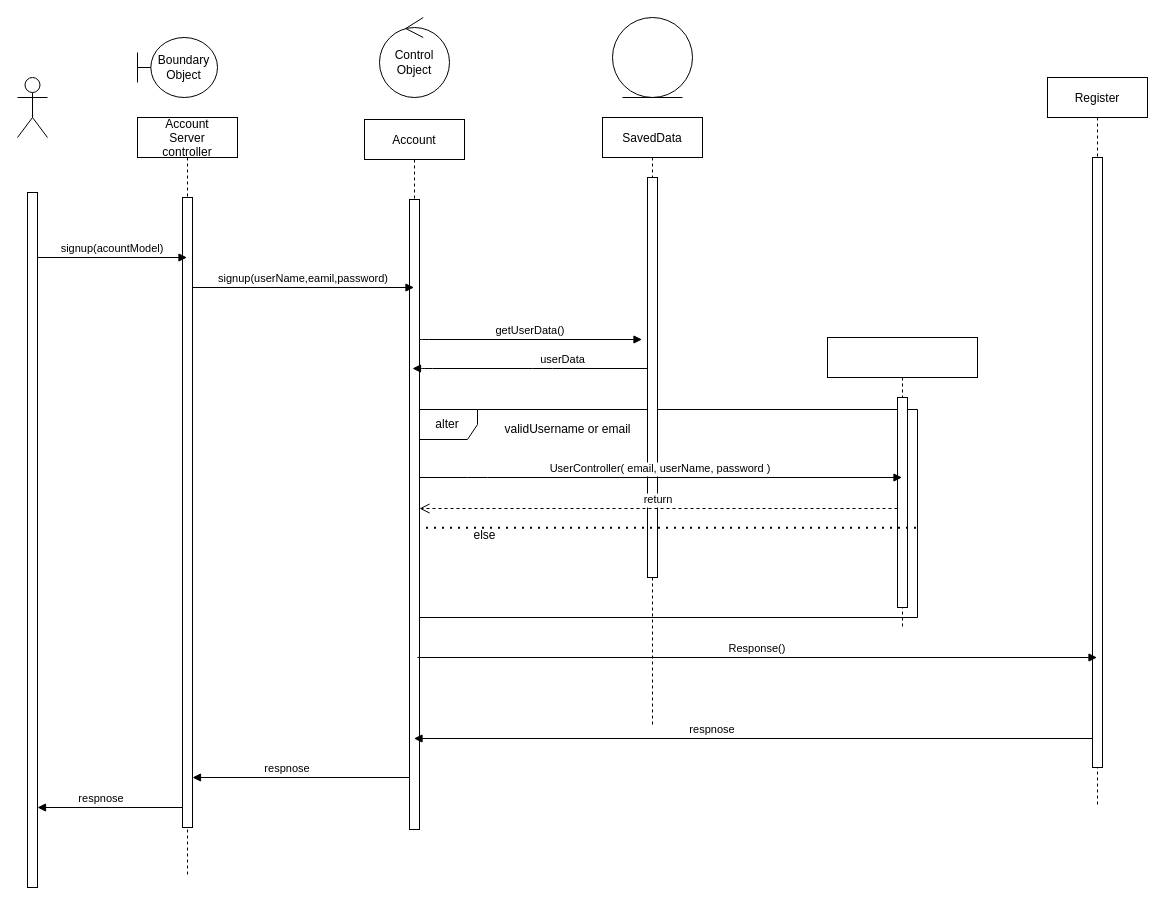
Some shapes in this 1165 by 905 pixel diagram are drawn without their labels. The box of each missing label's shape, as (x1, y1, x2, y2) in pixels:
Actor: (16, 76, 48, 138)
Entity Object: (612, 16, 692, 98)
userController: (826, 336, 978, 628)
